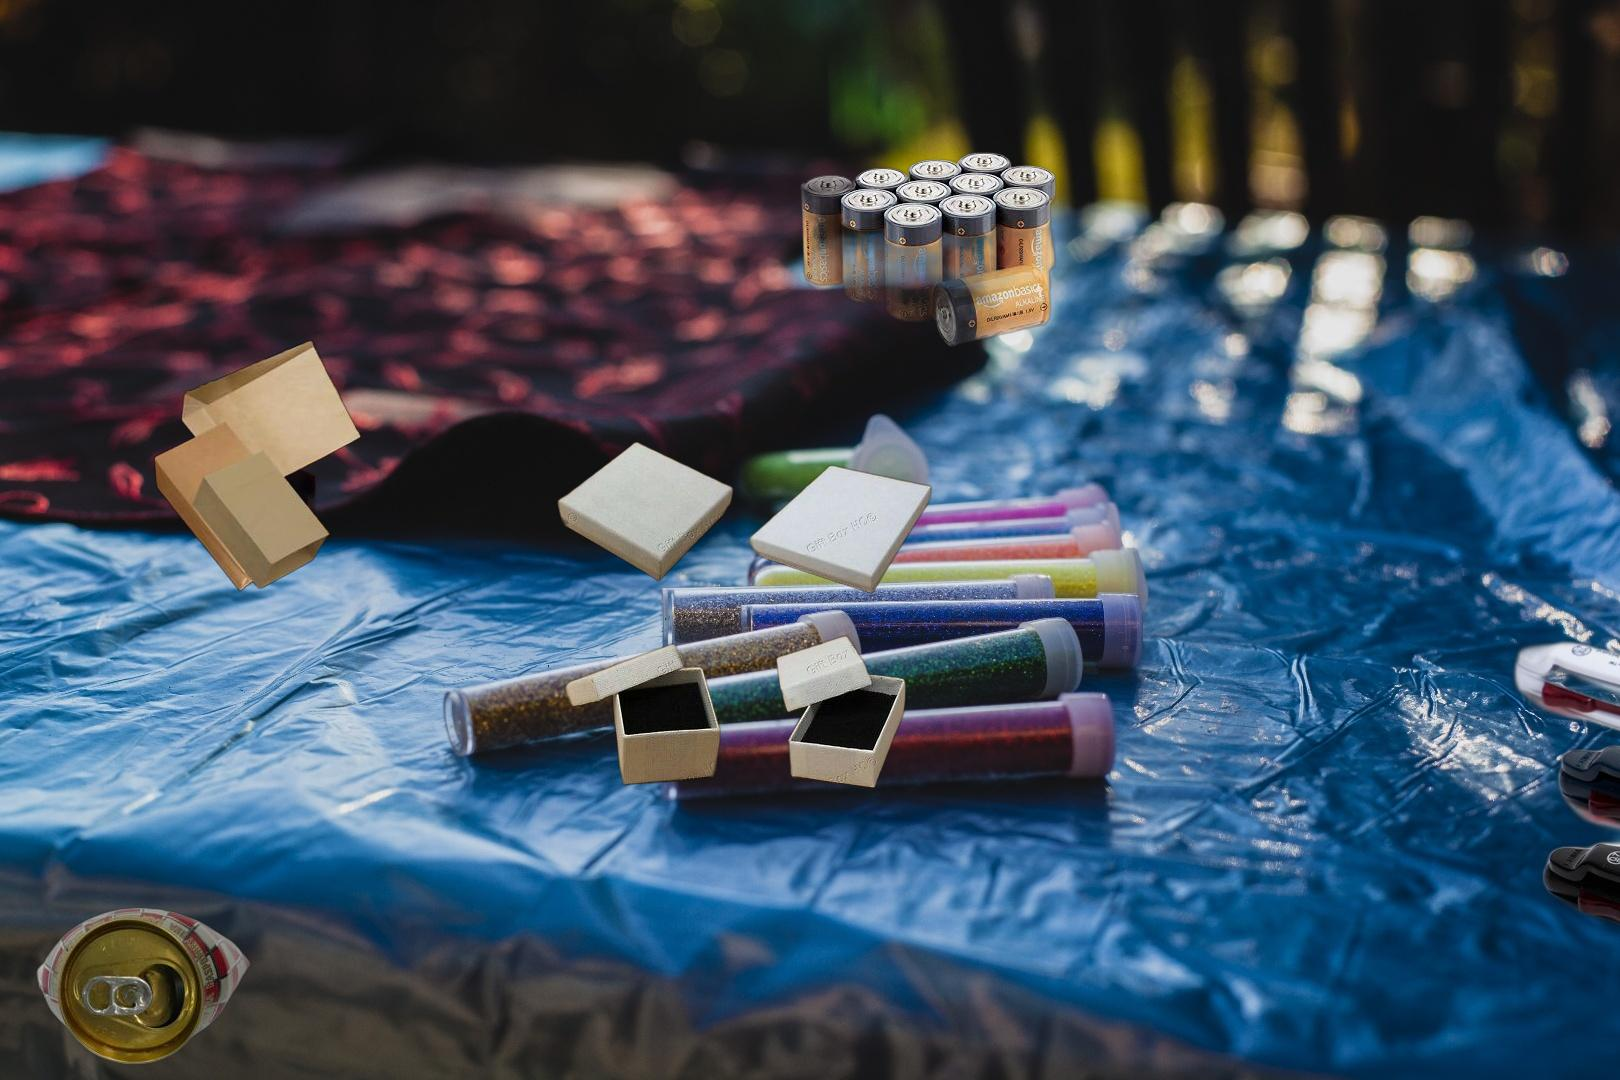battery: (800, 151, 1057, 347)
metal-cans: (33, 904, 254, 1068)
paper-bag: (153, 337, 362, 594)
penholder: (1505, 636, 1620, 1080)
trashbox-cardboard: (542, 411, 937, 791)
